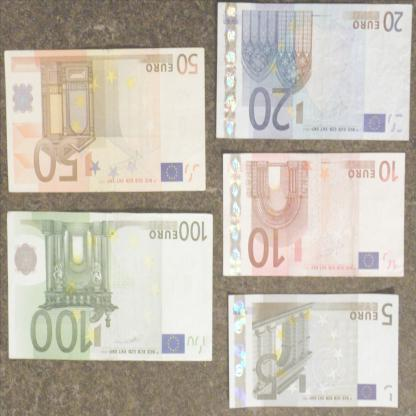euro_banknote: (7, 213, 215, 363), (6, 49, 207, 195), (217, 3, 414, 142), (223, 153, 407, 279), (229, 295, 400, 409)
